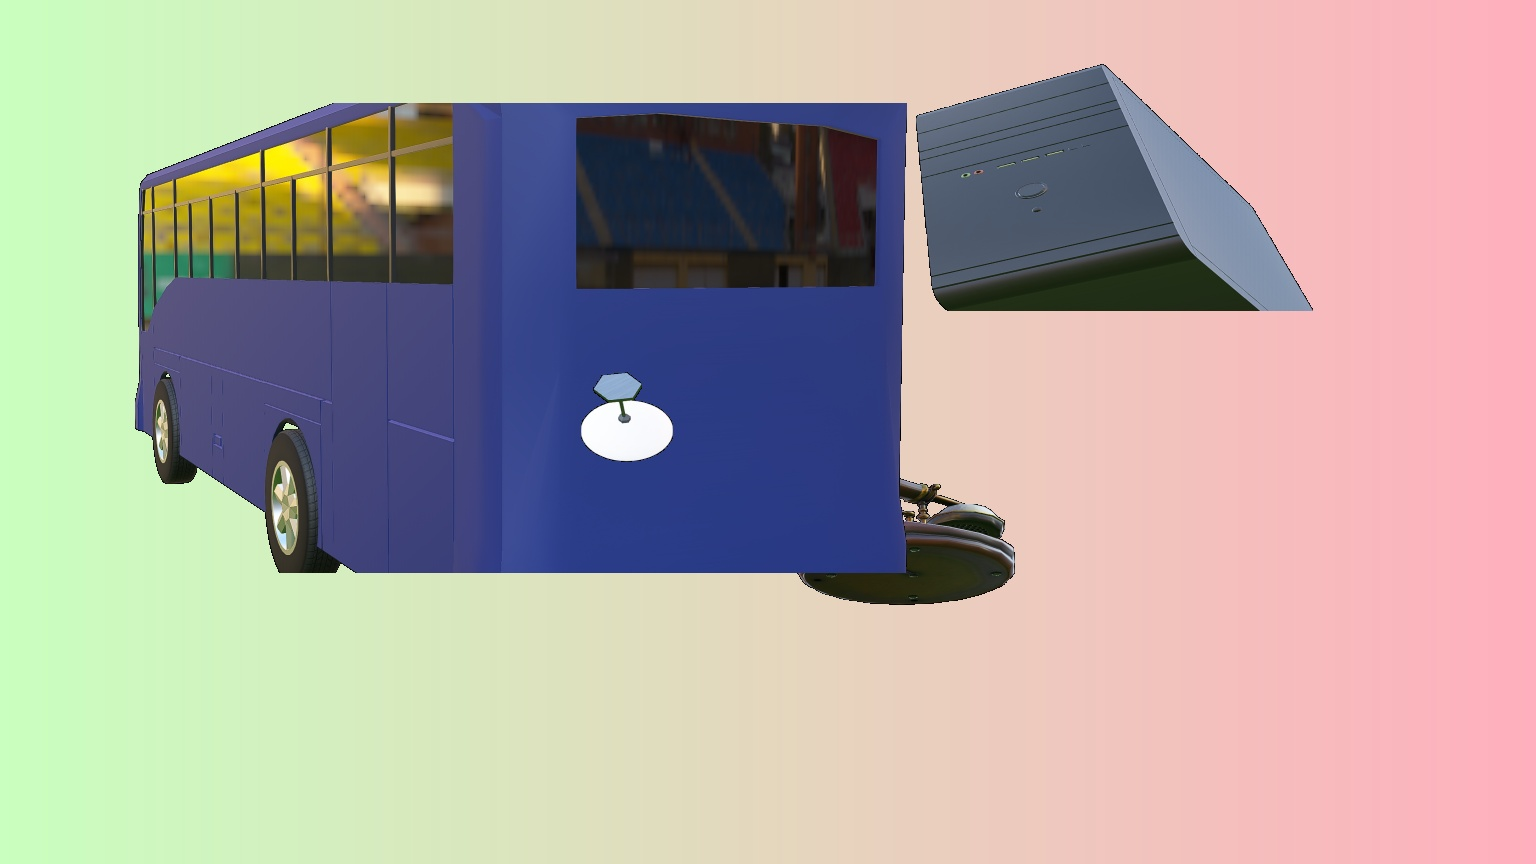bus: (134, 103, 908, 573)
luz: (580, 372, 674, 462)
ordenador: (915, 64, 1314, 311)
